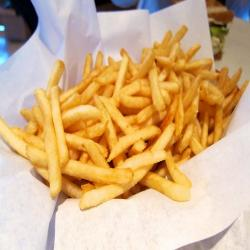fries: (14, 41, 242, 200)
